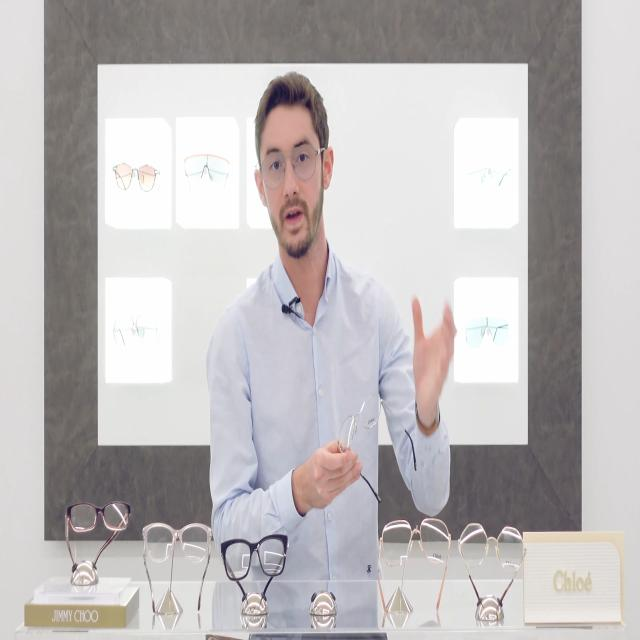dress: (206, 237, 451, 578)
glasses: (381, 512, 450, 562), (222, 530, 286, 581), (459, 520, 525, 569), (142, 520, 210, 567), (338, 394, 382, 453), (261, 142, 317, 185), (66, 501, 131, 535), (182, 151, 231, 187), (115, 162, 157, 196)
